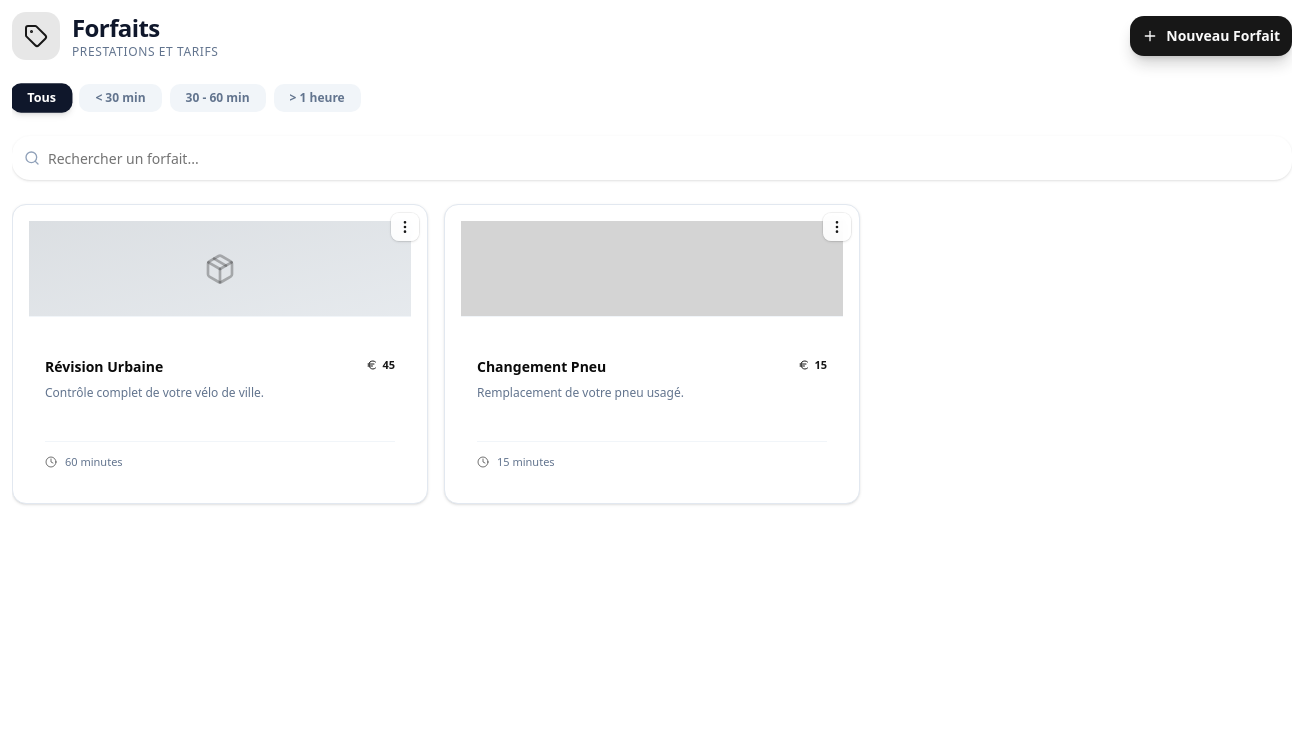
Test: AdminServicesPage › affiche un message si aucun forfait n'est trouvé
Expected: the heading "Révision Urbaine" is shown, left=45, top=357, right=163, bottom=377
In the field with placeholder "Rechercher un forfait...": (652,158) left=12, top=136, right=1292, bottom=180, type "Inexistant"
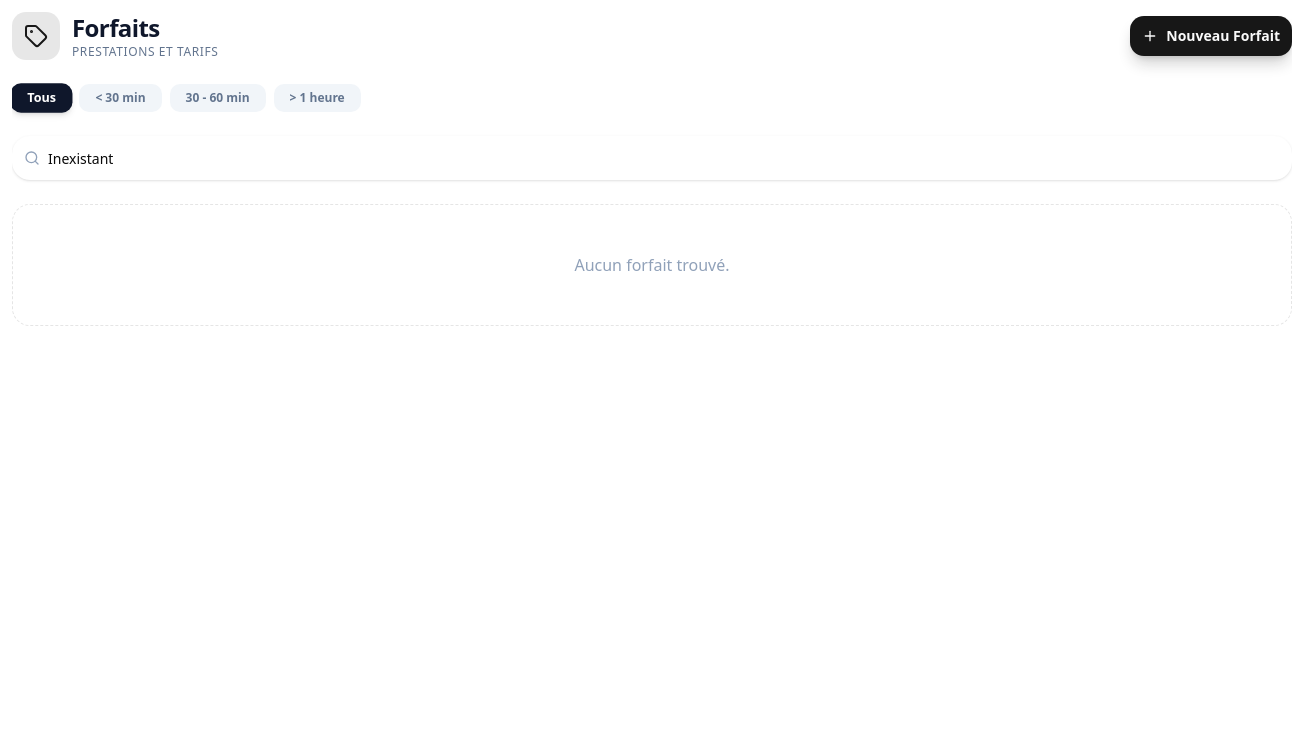
Expected: the text "Aucun forfait trouvé." is shown, left=12, top=204, right=1292, bottom=326
